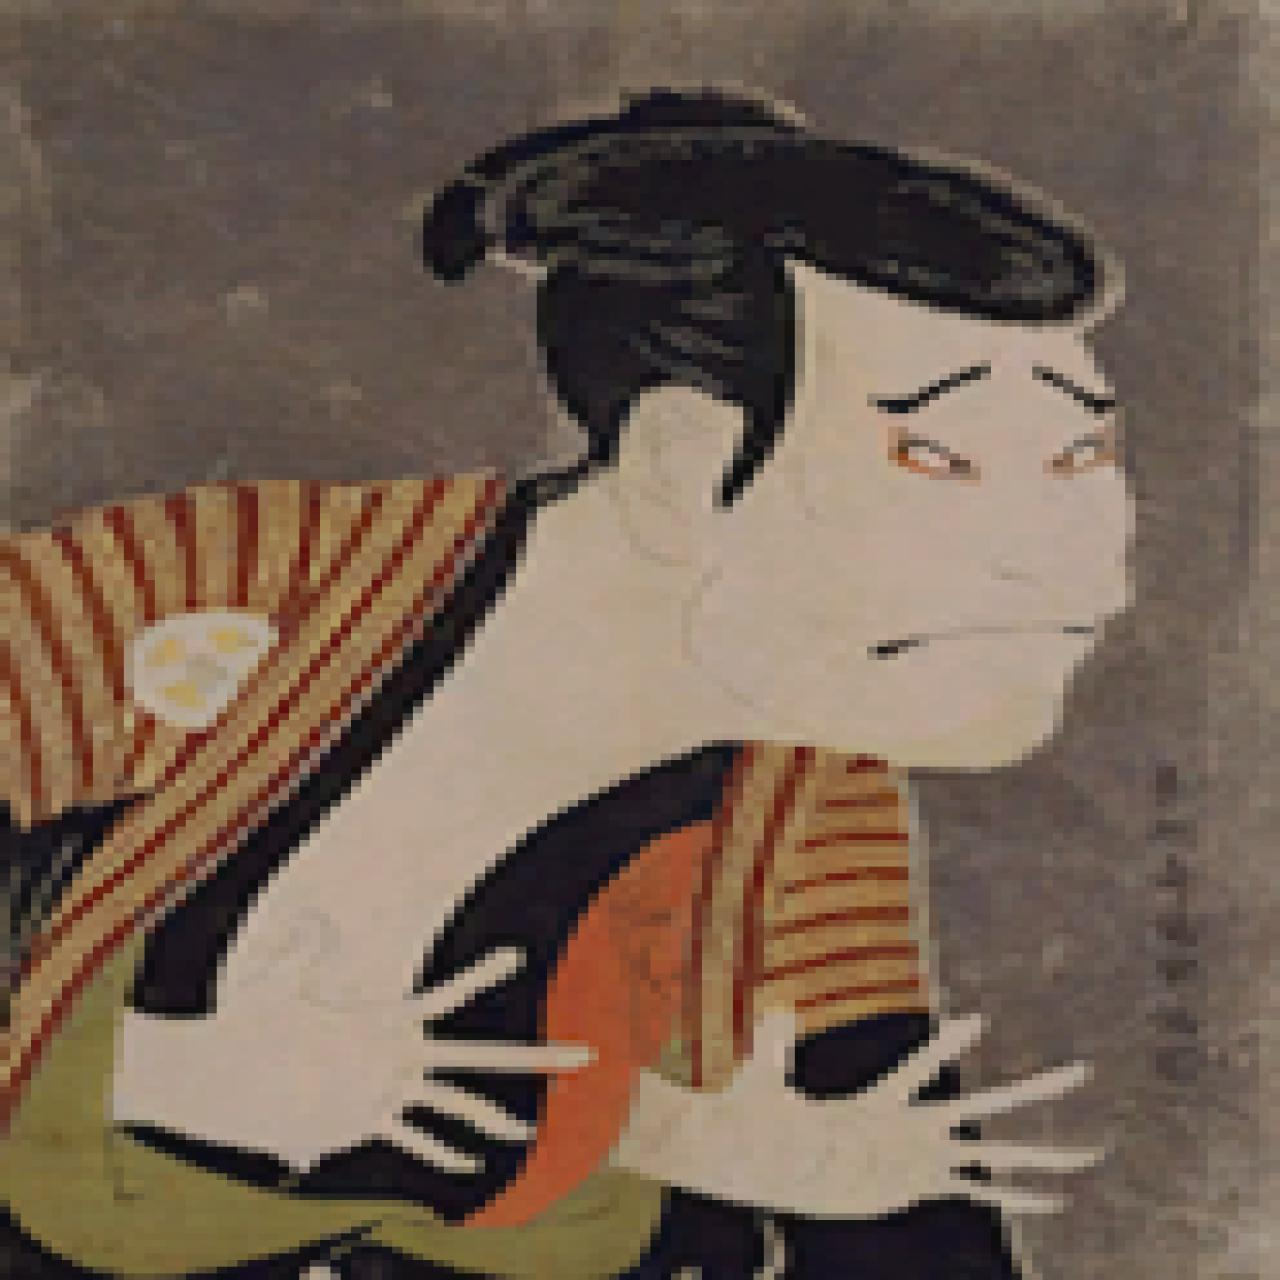OotaniOnijiFake: (1, 1, 1271, 1275)
